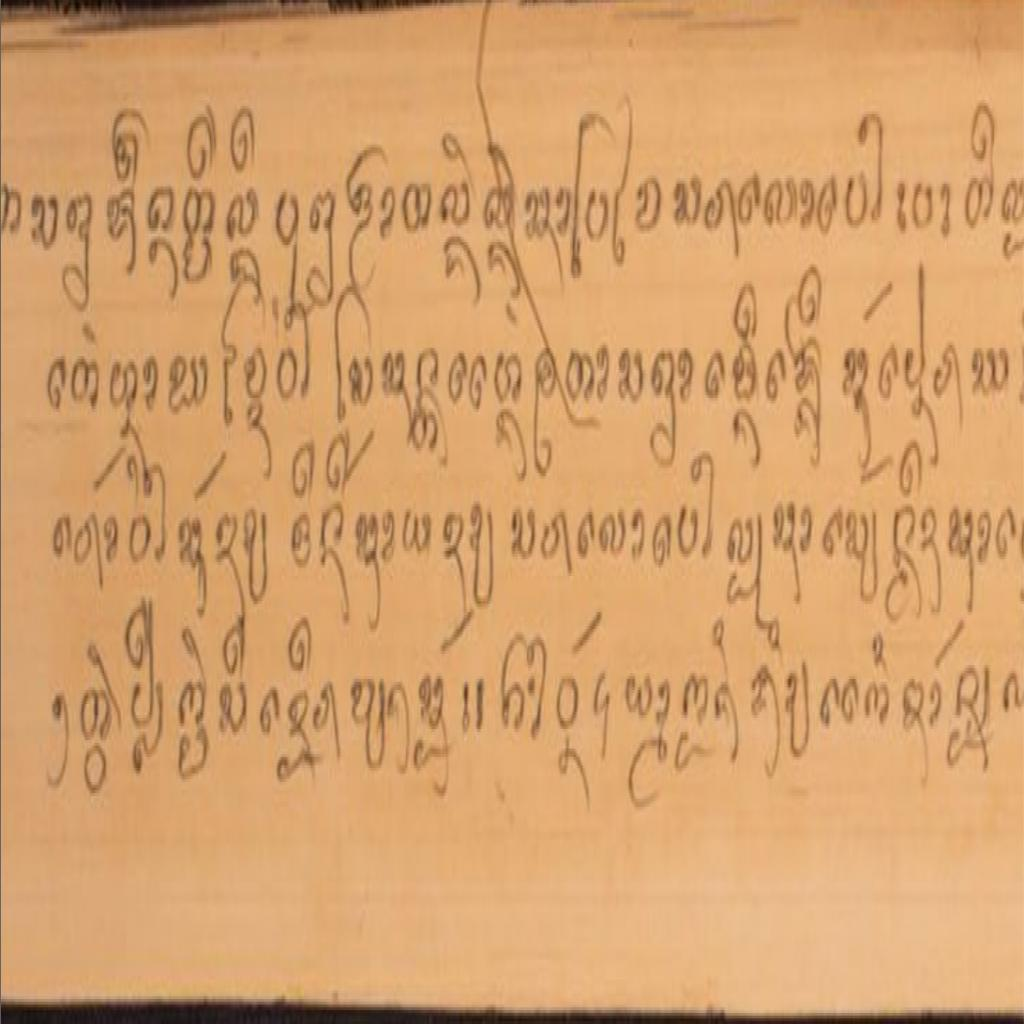LN004: (167, 348, 211, 421)
